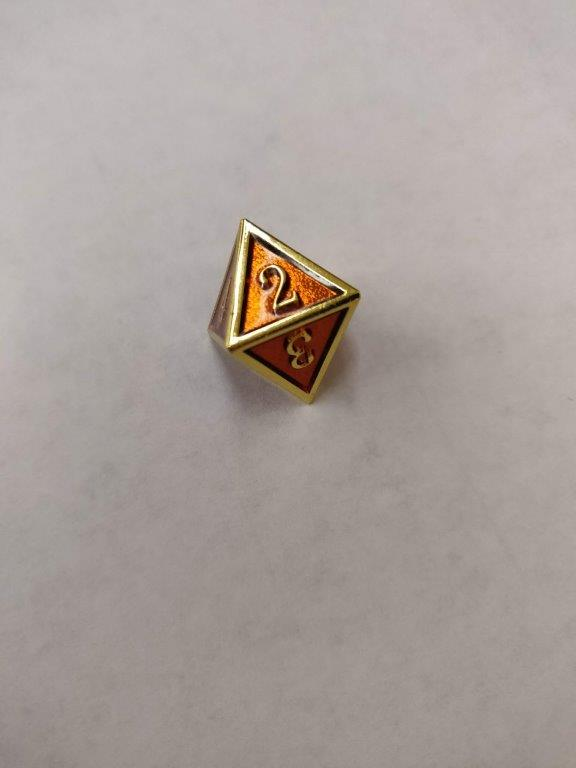d8-2: (205, 219, 362, 409)
